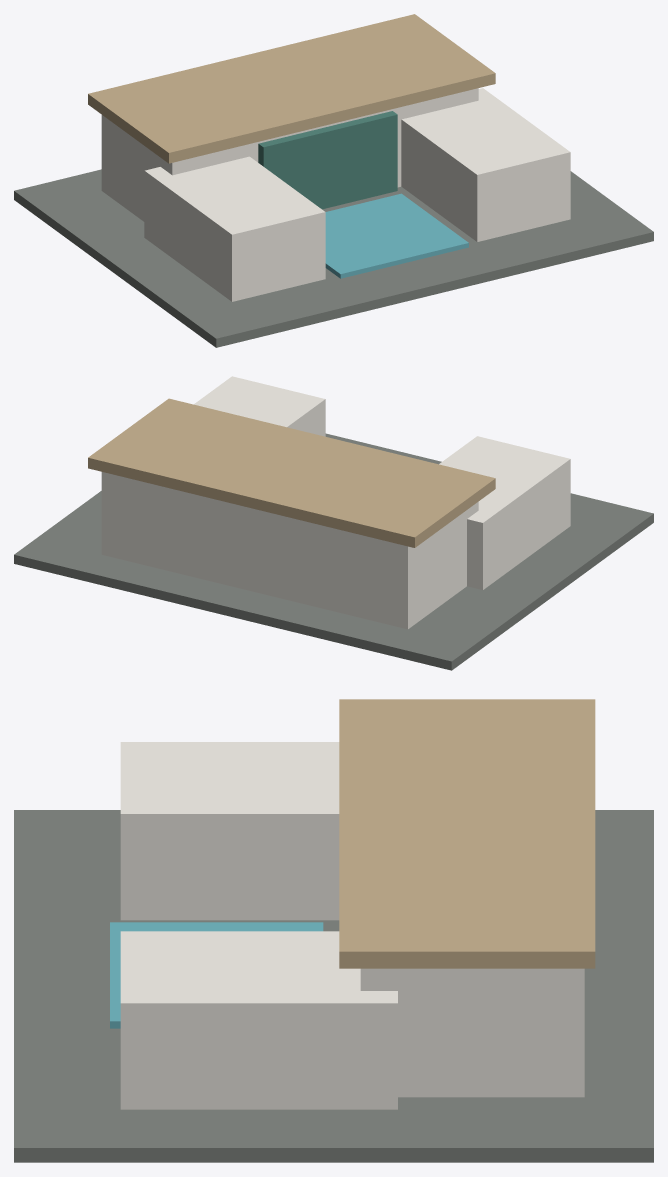
Rendered from silk-road-villa.glb.
The picture shows the model from 3 angles, top to bottom: view 1: azimuth 30°, elevation 25°; view 2: azimuth 150°, elevation 25°; view 3: azimuth 270°, elevation 25°; orthographic projection. The views are drawn at different scales.
Visible parts, largest first — view 1: CourtyardBase, ArchBronzeCrown, WestWing, EastWing, CourtyardGlass, CentralPool, MainPavilion; view 2: ArchBronzeCrown, MainPavilion, CourtyardBase, WestWing, EastWing; view 3: CourtyardBase, ArchBronzeCrown, EastWing, WestWing, MainPavilion, CentralPool.
Boxes of the visible parts, bbox=[...] form: CourtyardBase: bbox=[14, 169, 653, 347]; ArchBronzeCrown: bbox=[88, 14, 495, 163]; WestWing: bbox=[144, 156, 325, 301]; EastWing: bbox=[401, 88, 570, 241]; CourtyardGlass: bbox=[258, 111, 397, 209]; CentralPool: bbox=[325, 193, 468, 278]; MainPavilion: bbox=[101, 88, 478, 221]; ArchBronzeCrown: bbox=[88, 398, 495, 547]; MainPavilion: bbox=[101, 472, 478, 629]; CourtyardBase: bbox=[14, 433, 653, 670]; WestWing: bbox=[439, 436, 570, 589]; EastWing: bbox=[194, 376, 325, 436]; CourtyardBase: bbox=[14, 810, 653, 1162]; ArchBronzeCrown: bbox=[339, 699, 595, 968]; EastWing: bbox=[120, 931, 397, 1109]; WestWing: bbox=[120, 742, 339, 920]; MainPavilion: bbox=[360, 968, 584, 1097]; CentralPool: bbox=[110, 922, 323, 1028].
Bounding box in the file's own units: 15 × 3.47 × 12.
